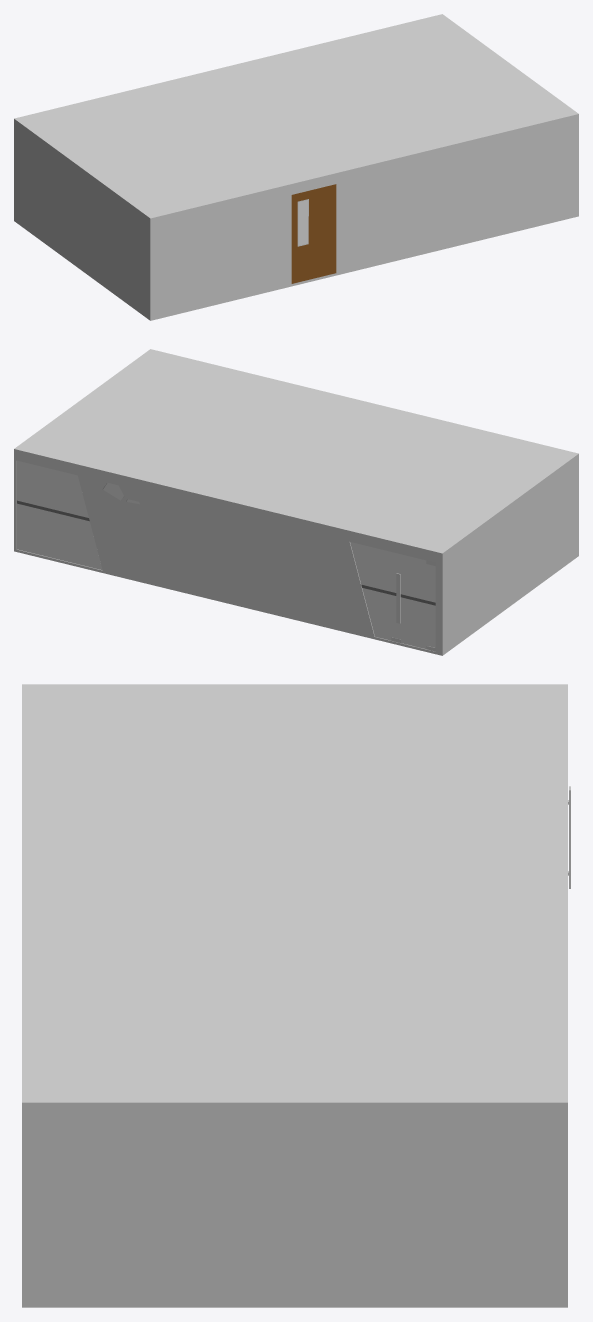
The model's file is LabVirtual.fbx.
3 views of the same model, one above another, from view 1: azimuth 30°, elevation 25°; view 2: azimuth 150°, elevation 25°; view 3: azimuth 270°, elevation 25° (orthographic). The views are drawn at different scales.
Visible parts, largest first — view 1: Lab, PintuKayu, KacaPintuKayu; view 2: Lab, KacaBesar, PintuKaca, KacaPintu; view 3: Lab.
Boxes of the visible parts, box(x1,y1,x2,y2) form: Lab: box(14, 14, 578, 320); PintuKayu: box(291, 184, 336, 283); KacaPintuKayu: box(298, 200, 308, 245); Lab: box(14, 349, 578, 655); KacaBesar: box(17, 460, 102, 569); PintuKaca: box(391, 552, 435, 648); KacaPintu: box(350, 542, 391, 640); Lab: box(22, 684, 567, 1307).
Size of the model in its own units: 2477 by 566 by 1374.
